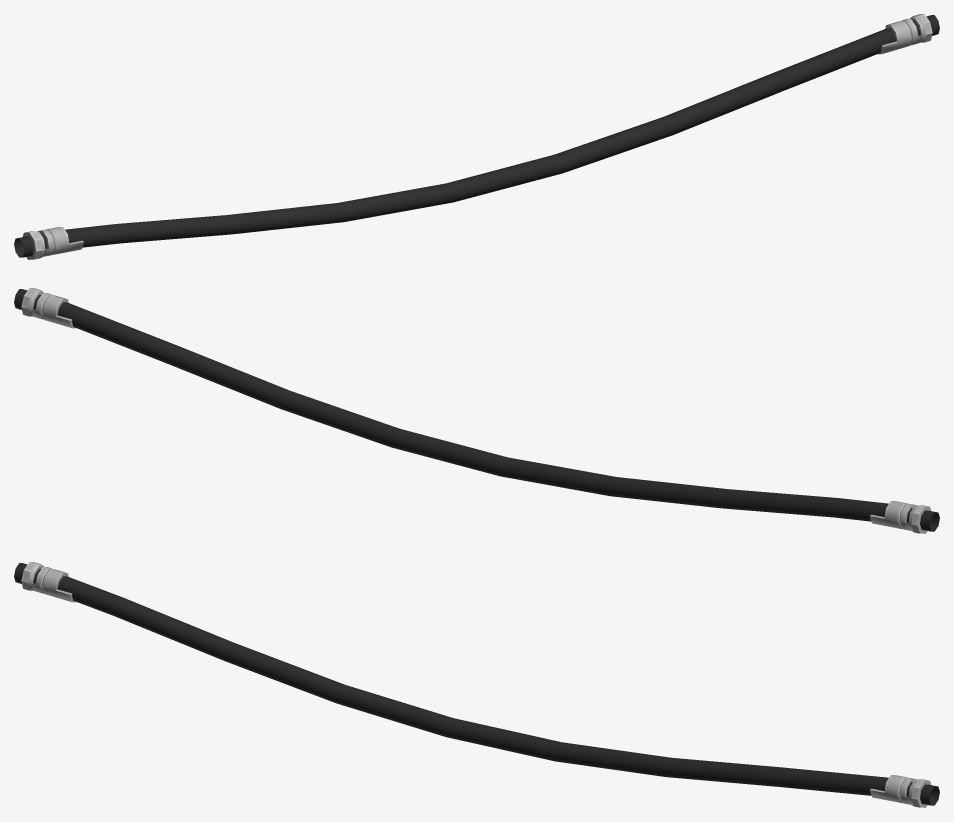
The model's file is ElectricalWires03_01.glb.
The picture shows the model from 3 angles, top to bottom: view 1: azimuth 30°, elevation 25°; view 2: azimuth 150°, elevation 25°; view 3: azimuth 330°, elevation 25°; orthographic projection.
Parts seen in each view (by area): view 1: NurbsPath; view 2: NurbsPath; view 3: NurbsPath.
Part boxes in pixels (x1=…): NurbsPath: x1=14, y1=14, x2=939, y2=259; NurbsPath: x1=14, y1=288, x2=939, y2=533; NurbsPath: x1=14, y1=562, x2=939, y2=807.
Bounding box in the file's own units: 4.03 × 0.3055 × 0.1139.
Materials: 1 (1 with a texture image).
